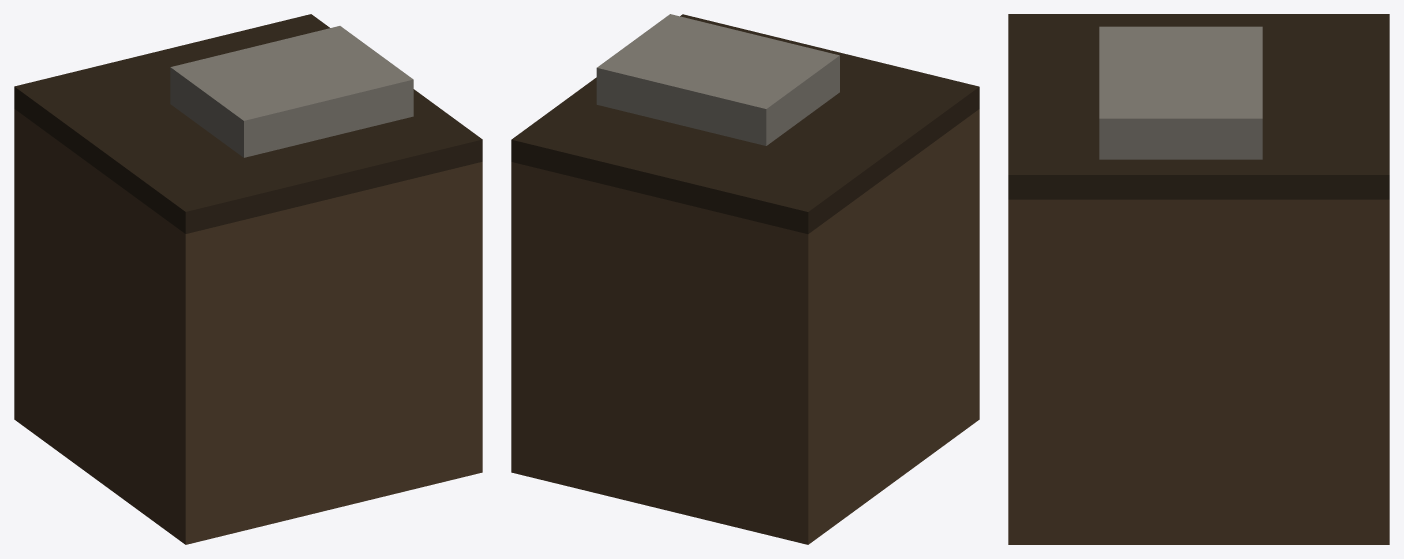
Rendered from welt_kiste.glb.
The picture shows the model from 3 angles, left to right: view 1: azimuth 30°, elevation 25°; view 2: azimuth 150°, elevation 25°; view 3: azimuth 270°, elevation 25°; orthographic projection. The views are drawn at different scales.
Parts seen in each view (by area): view 1: koerper, deckel, papierstapel; view 2: koerper, deckel, papierstapel; view 3: koerper, deckel, papierstapel.
Boxes of the visible parts, bbox=[...] form: koerper: bbox=[14, 109, 482, 544]; deckel: bbox=[14, 14, 482, 233]; papierstapel: bbox=[170, 26, 413, 157]; koerper: bbox=[511, 109, 979, 544]; deckel: bbox=[511, 14, 979, 233]; papierstapel: bbox=[596, 14, 839, 145]; koerper: bbox=[1008, 199, 1389, 544]; deckel: bbox=[1008, 14, 1389, 199]; papierstapel: bbox=[1099, 26, 1262, 159].
Size of the model in its own units: 0.42 by 0.5 by 0.42.
